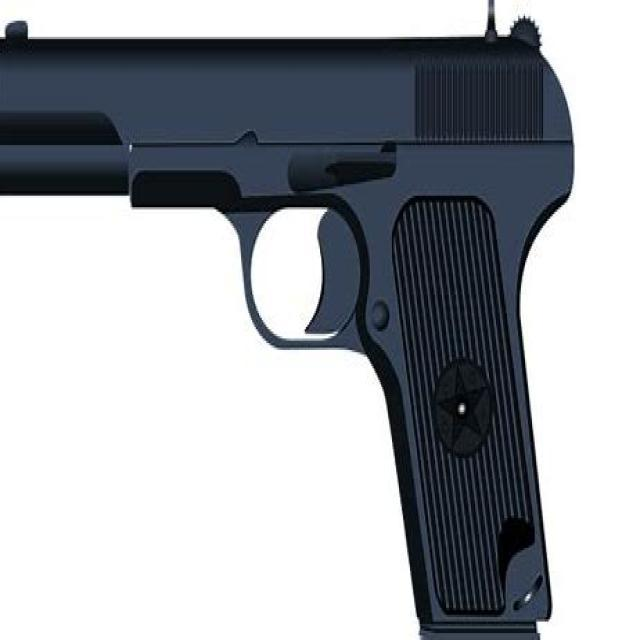Pistol: (2, 7, 602, 640)
